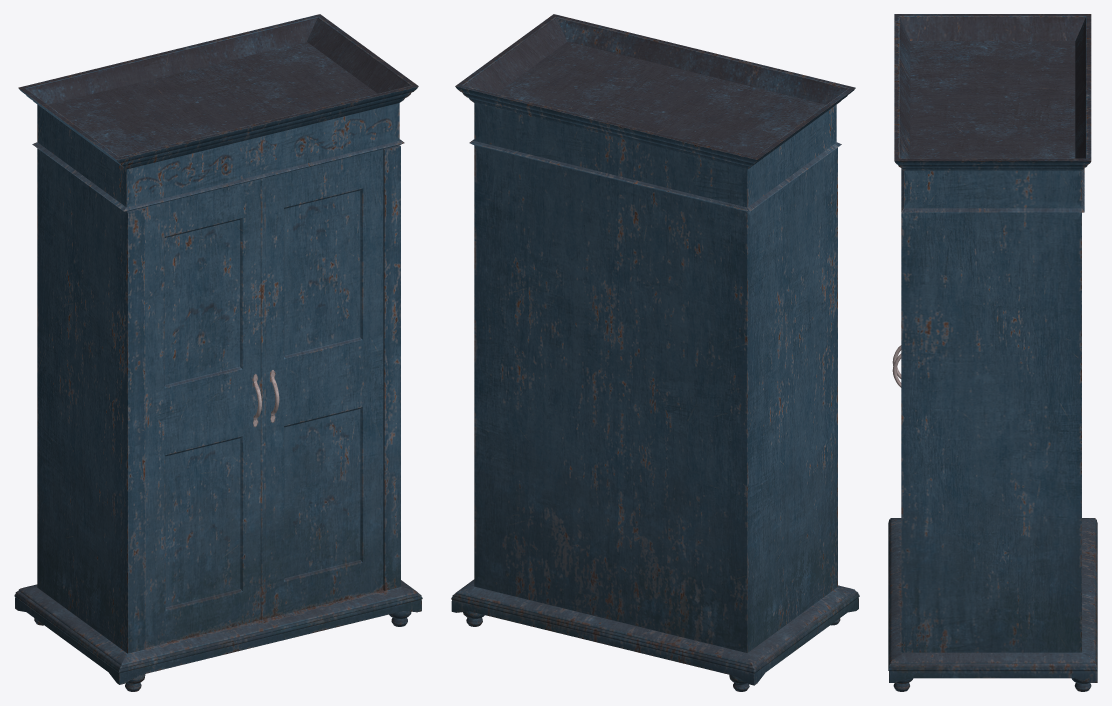
The model's file is old_blue_wardrobe.glb.
The picture shows the model from 3 angles, left to right: view 1: azimuth 30°, elevation 25°; view 2: azimuth 150°, elevation 25°; view 3: azimuth 270°, elevation 25°; orthographic projection.
Visible parts, largest first — view 1: Object_2; view 2: Object_2; view 3: Object_2.
Part boxes in pixels (box(x1,y1,x2,y2)): Object_2: box(14, 14, 422, 691); Object_2: box(451, 14, 859, 691); Object_2: box(888, 14, 1097, 691).
Size of the model in its own units: 1.21 by 2.04 by 0.7223.
1 material, 1 textured.
